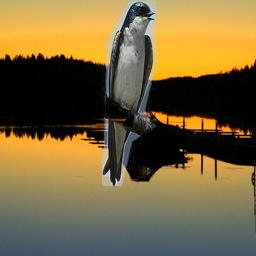Swallow: (102, 2, 156, 187)
